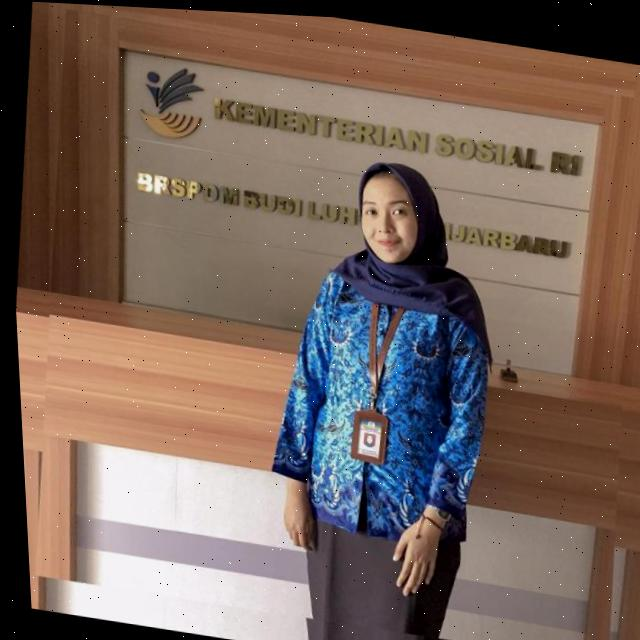id_card: (331, 269, 410, 465)
